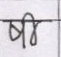i_matra: (25, 12, 38, 46)
